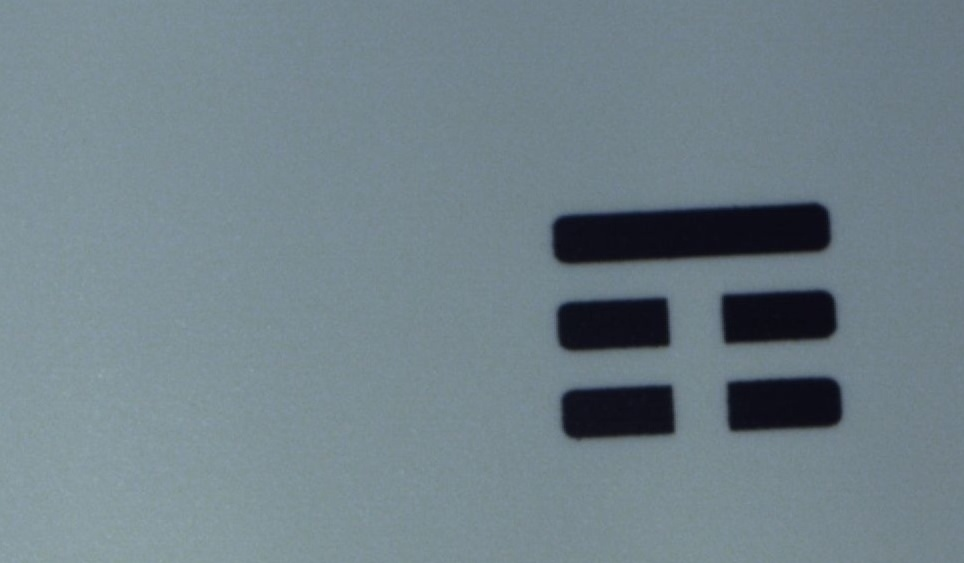BV_F6600PTIM: (505, 188, 870, 451)
